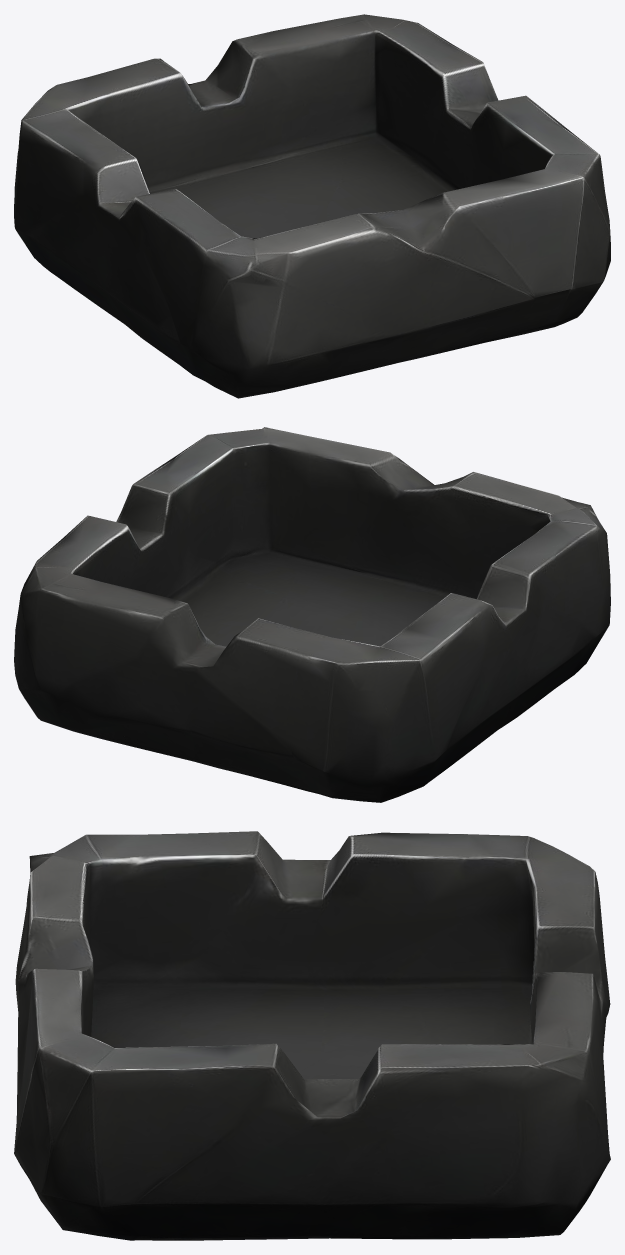
File: ashtray.glb
The picture shows the model from 3 angles, top to bottom: view 1: azimuth 30°, elevation 25°; view 2: azimuth 150°, elevation 25°; view 3: azimuth 270°, elevation 25°; orthographic projection. The views are drawn at different scales.
Parts seen in each view (by area): view 1: tripo_node_b34dfa3c-d49b-4327-8b5b-c93394678ef0; view 2: tripo_node_b34dfa3c-d49b-4327-8b5b-c93394678ef0; view 3: tripo_node_b34dfa3c-d49b-4327-8b5b-c93394678ef0.
Part boxes in pixels (box(x1,y1,x2,y2)): tripo_node_b34dfa3c-d49b-4327-8b5b-c93394678ef0: box(14, 14, 610, 398); tripo_node_b34dfa3c-d49b-4327-8b5b-c93394678ef0: box(14, 427, 610, 802); tripo_node_b34dfa3c-d49b-4327-8b5b-c93394678ef0: box(14, 831, 610, 1240).
Size of the model in its own units: 0.9987 by 0.3415 by 1.
Materials: 1 (1 with a texture image).
